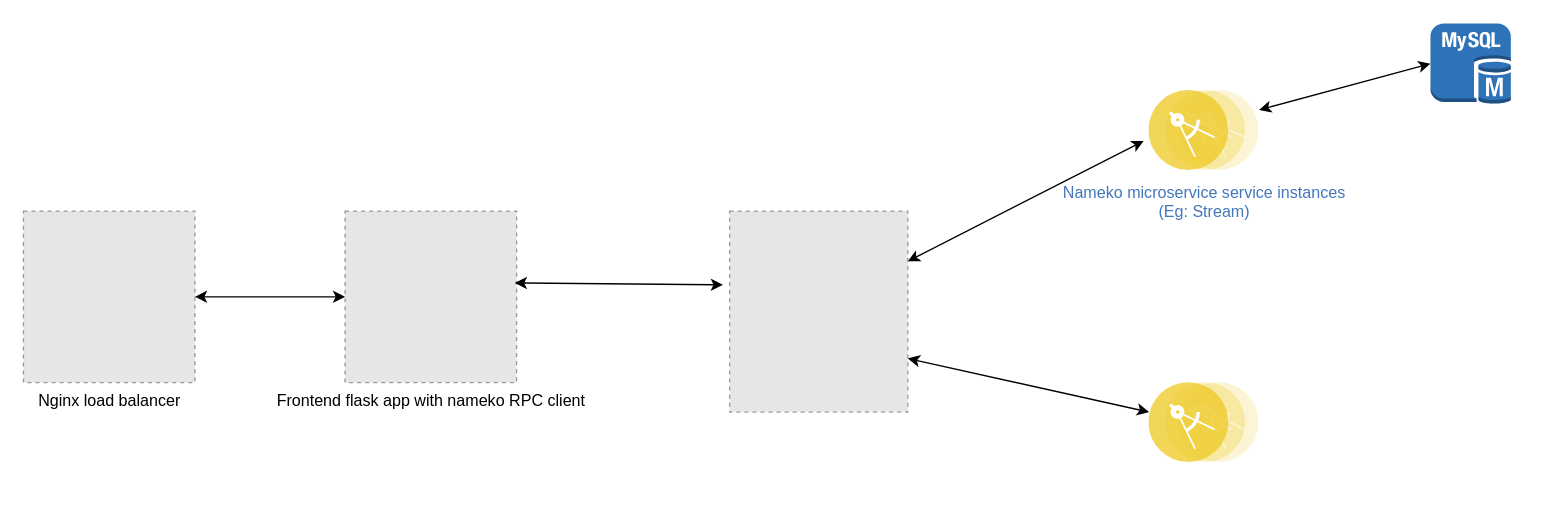
This 1561x519 diagram has some shape labels left out. Grey dashed boxes stand in for pictures. The centre of each missing label's shape, as x and y in pixels:
"Nameko microservice 2" goes at (x=1203, y=422).
"Stream service DB" goes at (x=1470, y=63).
